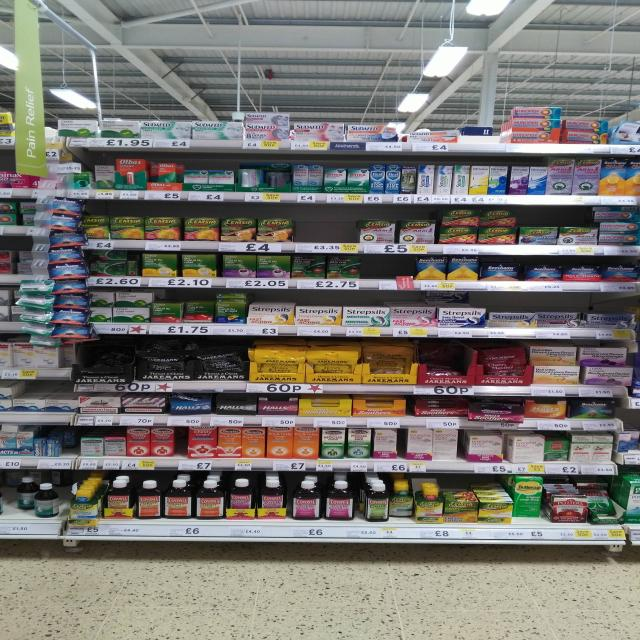void: (302, 212, 354, 242), (470, 103, 508, 143)
